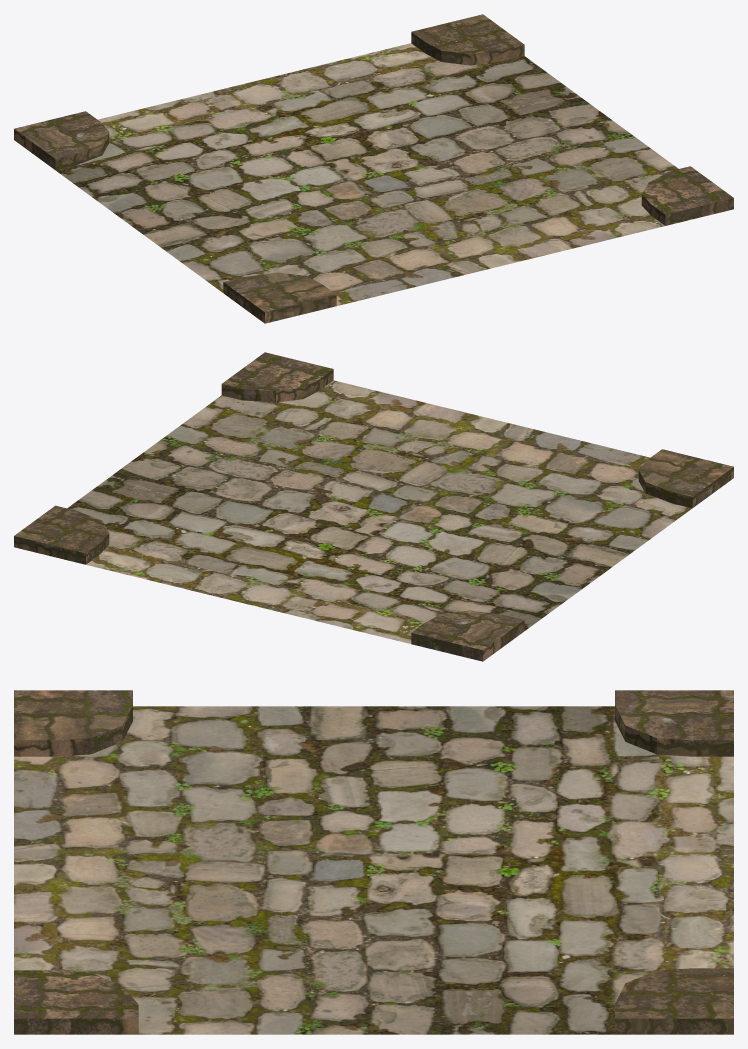
File: Middle.FBX
The picture shows the model from 3 angles, top to bottom: view 1: azimuth 30°, elevation 25°; view 2: azimuth 150°, elevation 25°; view 3: azimuth 270°, elevation 25°; orthographic projection. The views are drawn at different scales.
Visible parts, largest first — view 1: Plane003; view 2: Plane003; view 3: Plane003.
Boxes of the visible parts, x1,y1,x2,y2 form: Plane003: (14, 14, 733, 323); Plane003: (14, 352, 733, 661); Plane003: (14, 690, 733, 1034).
Size of the model in its own units: 447 by 414 by 10.33.
Materials: 2 (2 with a texture image).
